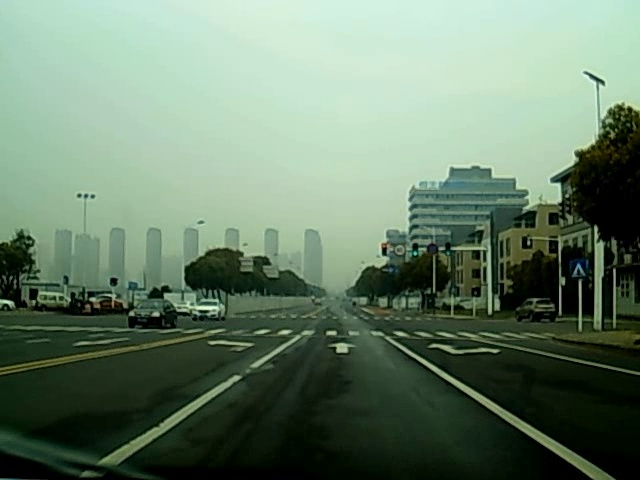Traffic_Light_go: (444, 242, 451, 259), (413, 244, 418, 259)
Traffic_Light_stop: (379, 242, 389, 259)
